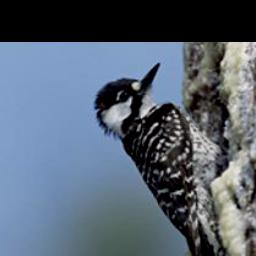Woodpecker: (93, 55, 256, 256)
